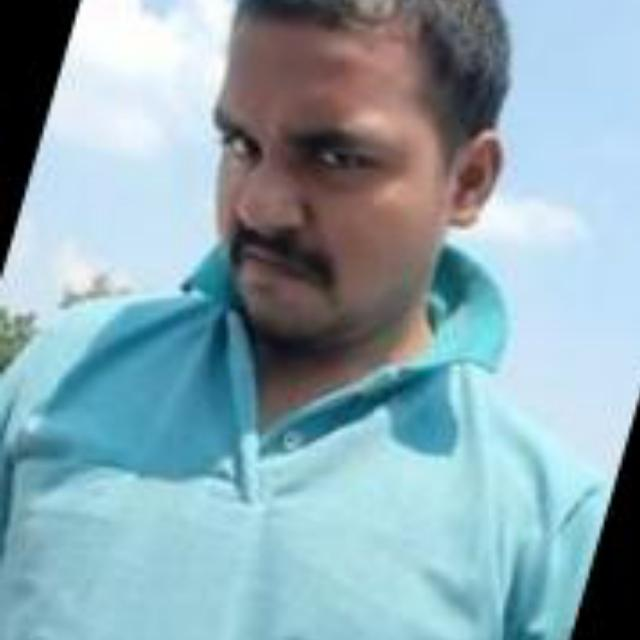Angry: (184, 56, 497, 410)
